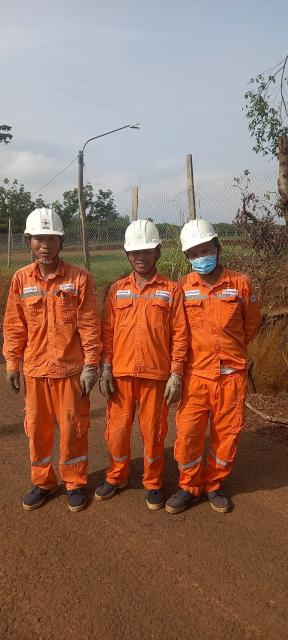gloves: (2, 364, 36, 403), (153, 367, 185, 404), (69, 362, 99, 394), (96, 363, 120, 403)
helmet: (19, 199, 69, 240), (120, 212, 160, 256), (176, 215, 221, 254)
shoes: (162, 480, 202, 517), (16, 474, 56, 510), (202, 479, 234, 519), (96, 464, 130, 501), (143, 479, 167, 517), (66, 481, 90, 513)
